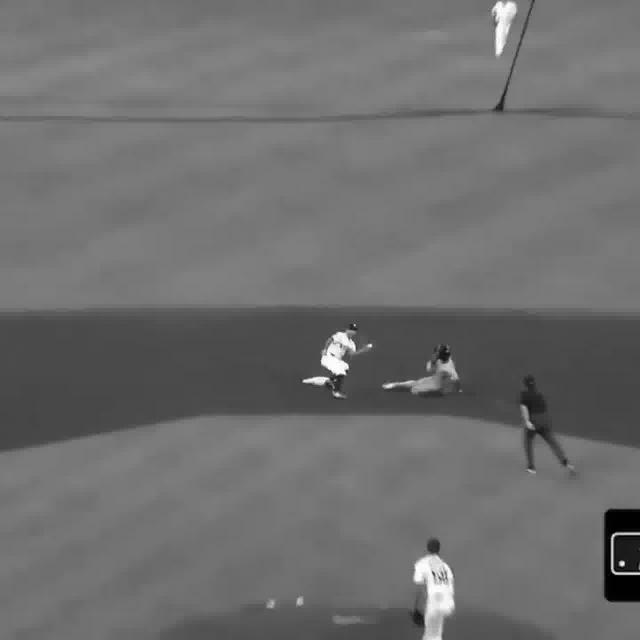base: (301, 374, 330, 384)
baseball: (366, 342, 374, 348)
shoe: (331, 391, 349, 401), (326, 379, 335, 389), (383, 384, 393, 391)
